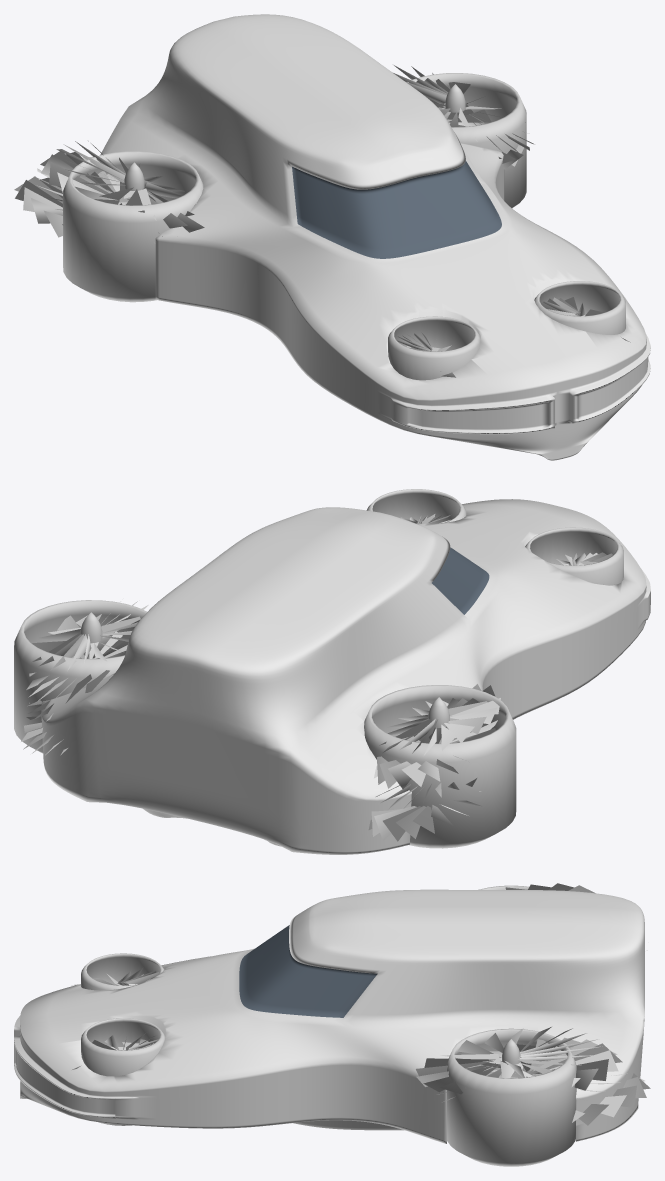
The model's file is Flying Police Car.fbx.
The picture shows the model from 3 angles, top to bottom: view 1: azimuth 30°, elevation 25°; view 2: azimuth 150°, elevation 25°; view 3: azimuth 270°, elevation 25°; orthographic projection. The views are drawn at different scales.
Parts seen in each view (by area): view 1: Cube, Casing.003, Casing.106, Casing.028; view 2: Cube, Casing.003, Casing.106; view 3: Cube, Casing.106, Casing.028, Casing.002.
Boxes of the visible parts, <box> form: Cube: <box>63,14,650,460</box>; Casing.003: <box>14,141,204,243</box>; Casing.106: <box>393,65,534,169</box>; Casing.028: <box>540,297,630,342</box>; Cube: <box>14,489,650,854</box>; Casing.003: <box>368,684,500,841</box>; Casing.106: <box>21,601,148,755</box>; Cube: <box>14,885,644,1166</box>; Casing.106: <box>416,1027,650,1125</box>; Casing.028: <box>63,1033,158,1069</box>; Casing.002: <box>71,968,159,985</box>.
Size of the model in its own units: 384 by 163 by 521.
